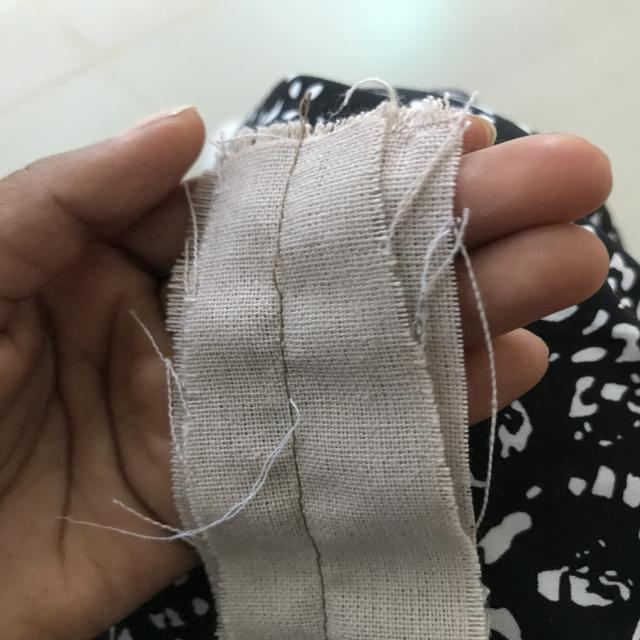skip: (260, 243, 308, 310)
